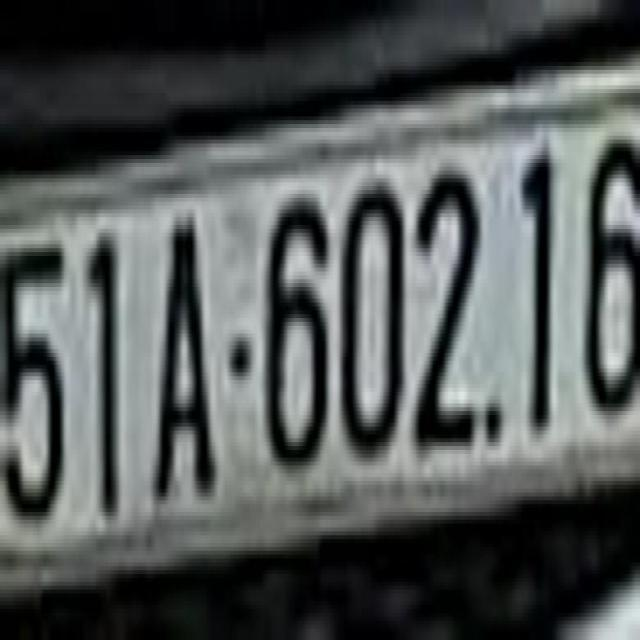0: (342, 171, 410, 477)
1: (516, 143, 561, 481), (88, 228, 121, 536)
2: (414, 175, 482, 462)
5: (1, 240, 69, 536)
6: (264, 178, 329, 496), (588, 108, 640, 450)
A: (154, 206, 221, 532)
